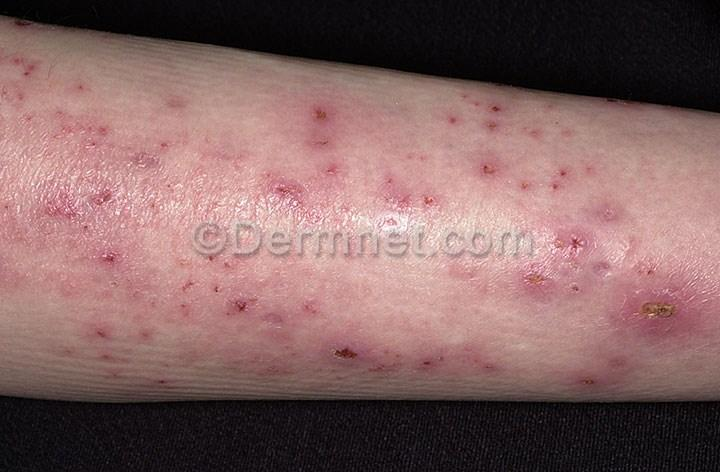Eczema: (635, 293, 682, 330), (273, 176, 312, 216), (42, 187, 80, 226), (124, 149, 170, 177), (517, 269, 556, 293), (390, 172, 413, 212), (564, 229, 595, 257), (480, 156, 507, 188), (328, 345, 367, 366), (130, 287, 162, 312), (308, 102, 336, 129), (89, 185, 118, 209), (305, 137, 344, 153), (92, 249, 124, 268), (484, 117, 509, 140), (367, 361, 402, 377), (323, 158, 344, 184), (5, 17, 38, 33), (164, 93, 188, 115), (591, 260, 616, 281), (419, 193, 442, 214), (232, 299, 257, 318), (607, 354, 630, 374), (416, 356, 444, 372), (605, 95, 645, 106), (520, 123, 544, 141), (599, 205, 617, 226), (406, 151, 432, 165), (260, 363, 287, 376), (575, 377, 600, 390), (634, 267, 661, 279), (20, 59, 38, 77), (259, 311, 286, 323), (92, 325, 111, 342), (488, 102, 508, 118), (301, 301, 321, 317), (484, 79, 510, 91), (547, 178, 566, 194), (157, 140, 177, 155), (107, 276, 124, 293), (183, 278, 201, 294), (564, 280, 586, 293), (446, 111, 461, 130), (380, 176, 399, 191), (555, 166, 572, 181), (480, 362, 499, 375), (139, 327, 153, 342), (202, 134, 216, 149), (59, 123, 75, 136), (618, 239, 631, 255), (583, 163, 598, 176), (518, 177, 530, 193), (85, 138, 102, 149), (97, 125, 111, 138), (210, 284, 223, 297), (22, 116, 37, 127), (75, 80, 85, 94), (461, 90, 470, 104), (54, 107, 66, 117), (223, 259, 233, 270), (82, 223, 93, 233), (1, 202, 11, 212), (471, 101, 481, 109)
